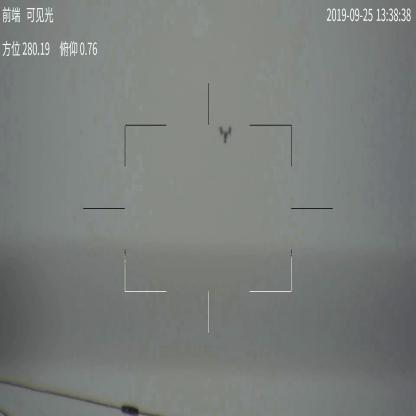uav: (219, 125, 234, 147)
